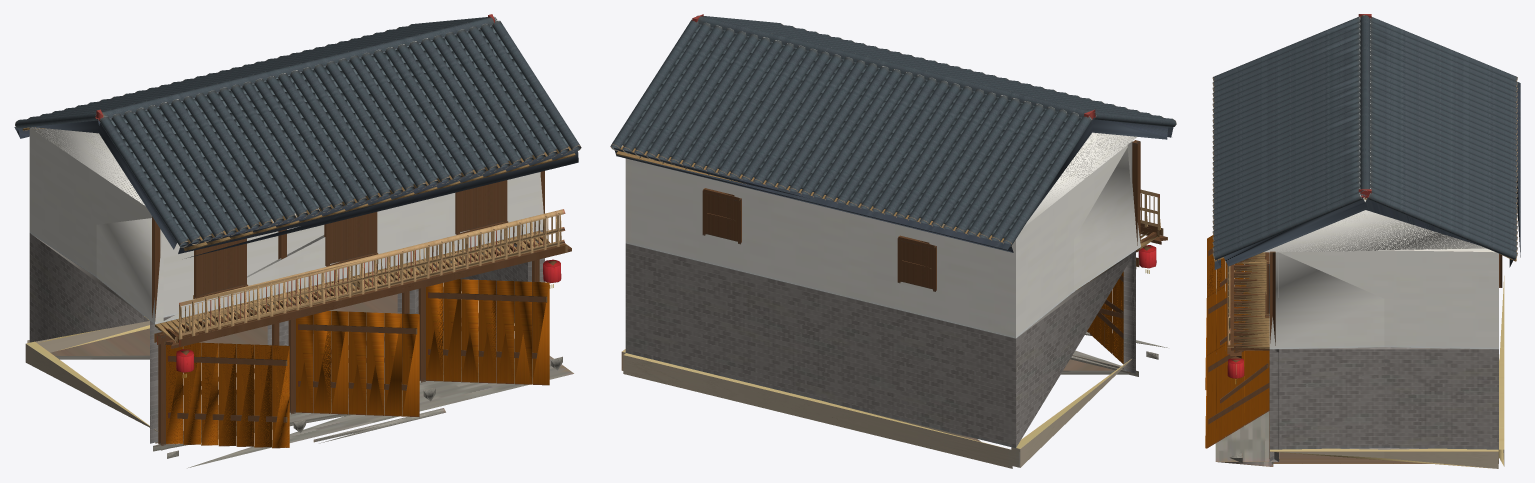
Rendered from lib_lib_house_a2_open.glb.
3 renders of one model, left to right at view 1: azimuth 30°, elevation 25°; view 2: azimuth 150°, elevation 25°; view 3: azimuth 270°, elevation 25°, orthographic. The views are drawn at different scales.
Visible parts, largest first — view 1: house_a2; view 2: house_a2; view 3: house_a2.
Boxes of the visible parts, x1,y1,x2,y2 form: house_a2: (14,14,581,468); house_a2: (610,14,1176,468); house_a2: (1205,14,1520,468).
Bounding box in the file's own units: 11.12 × 8 × 8.25.
Materials: 8 (8 with a texture image).
